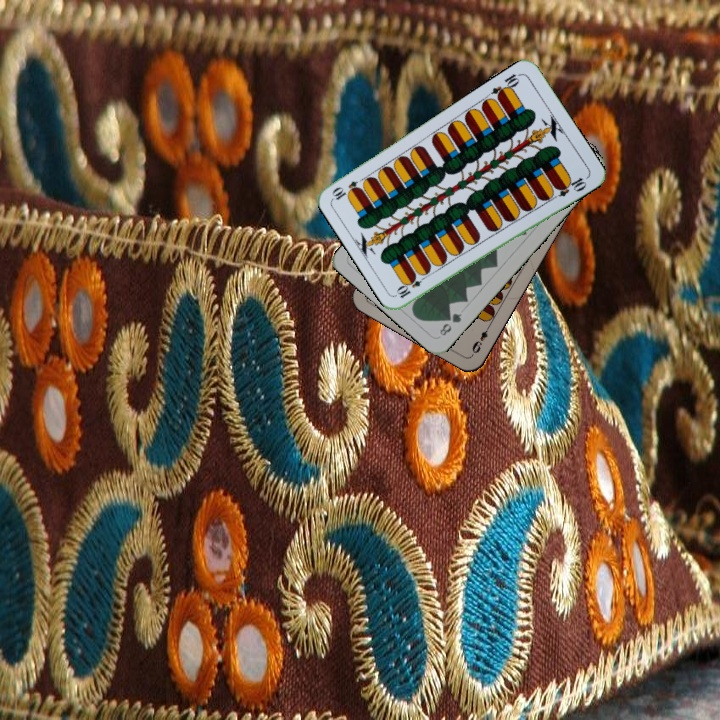E10: (487, 69, 524, 102), (393, 270, 430, 301)
E9: (468, 320, 493, 358)
G8: (435, 309, 465, 338)
